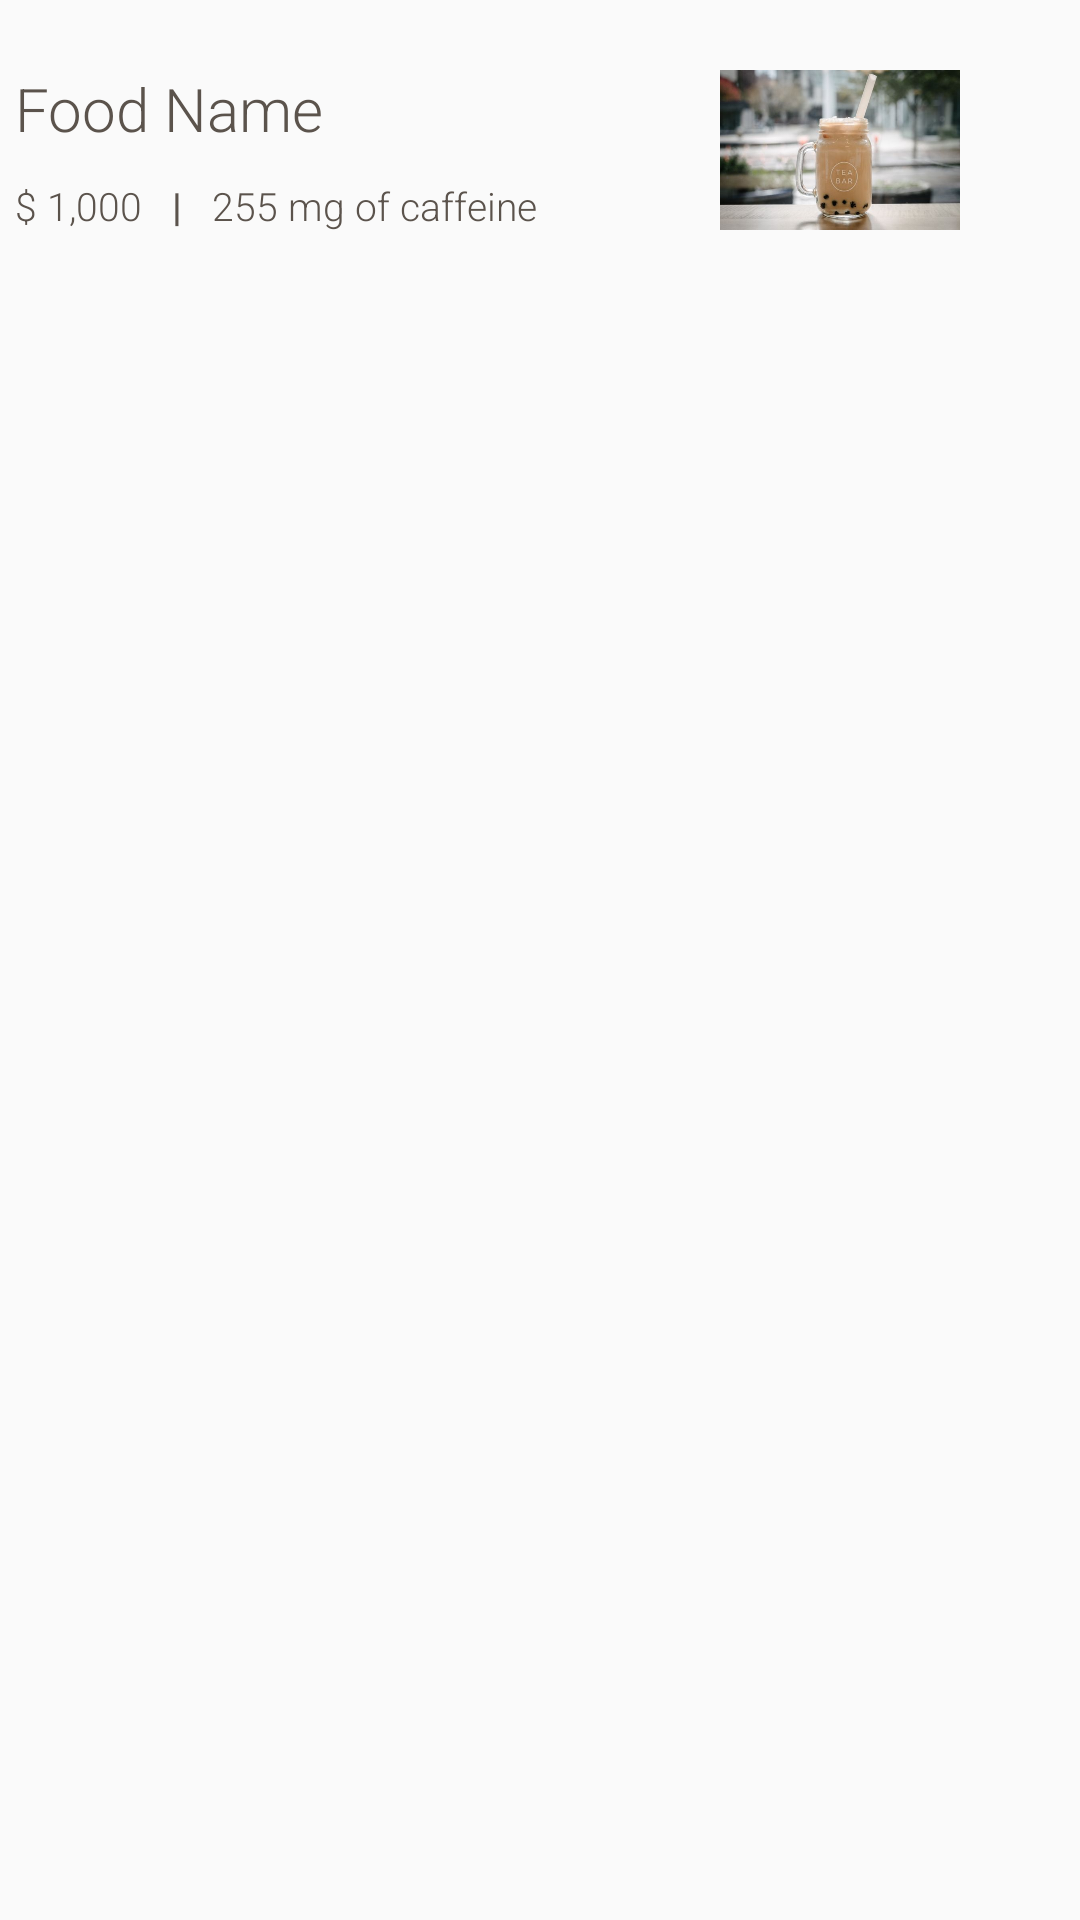

Where to tap for icons on this 1080w x 1920h app screen, as [x,y]:
honey milk tea: [840,150]
